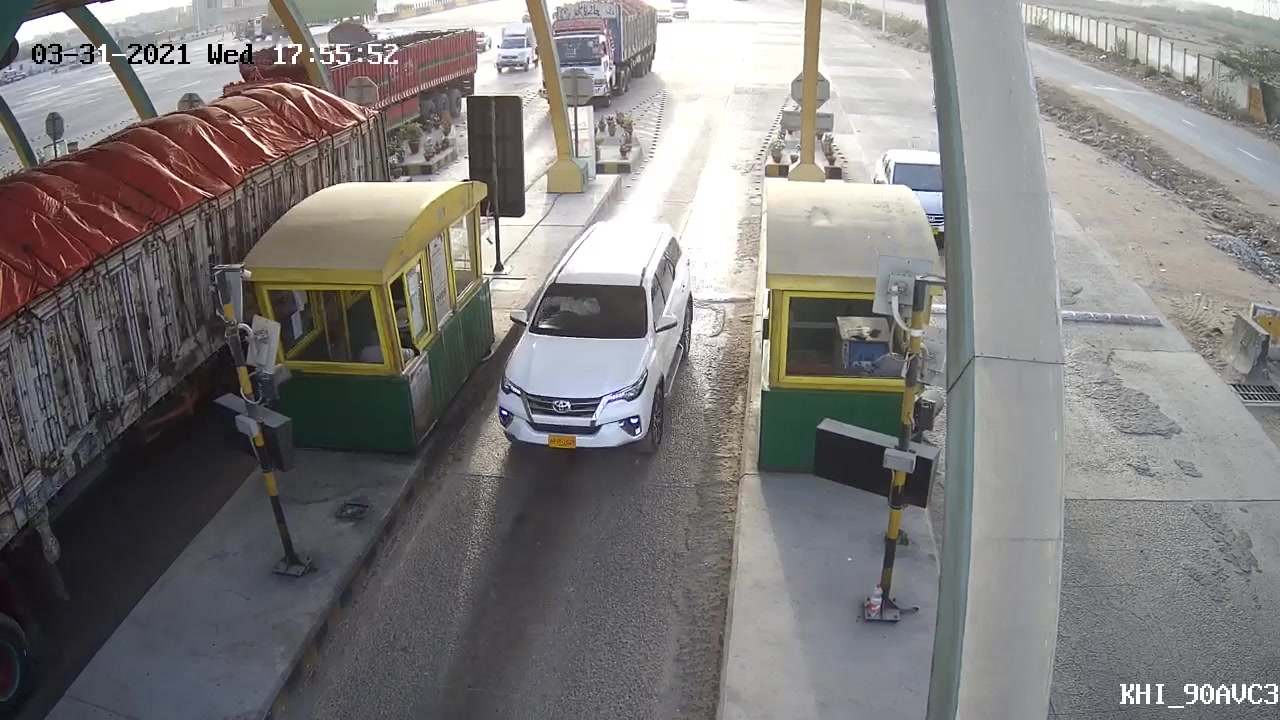F1: (493, 212, 702, 479)
